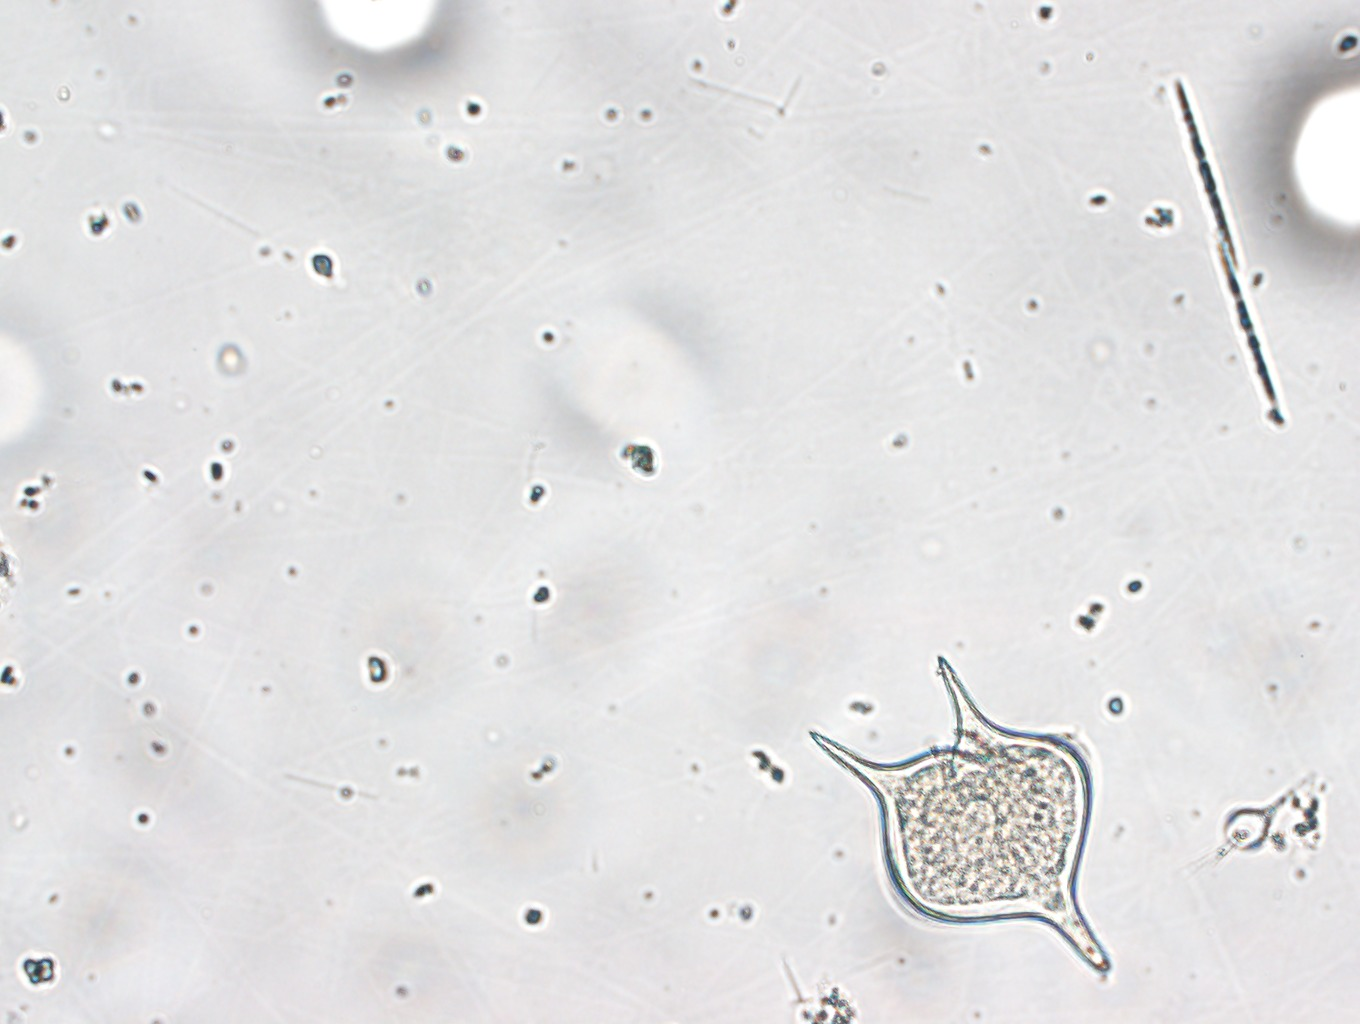ceratium furca: (808, 646, 1123, 978)
